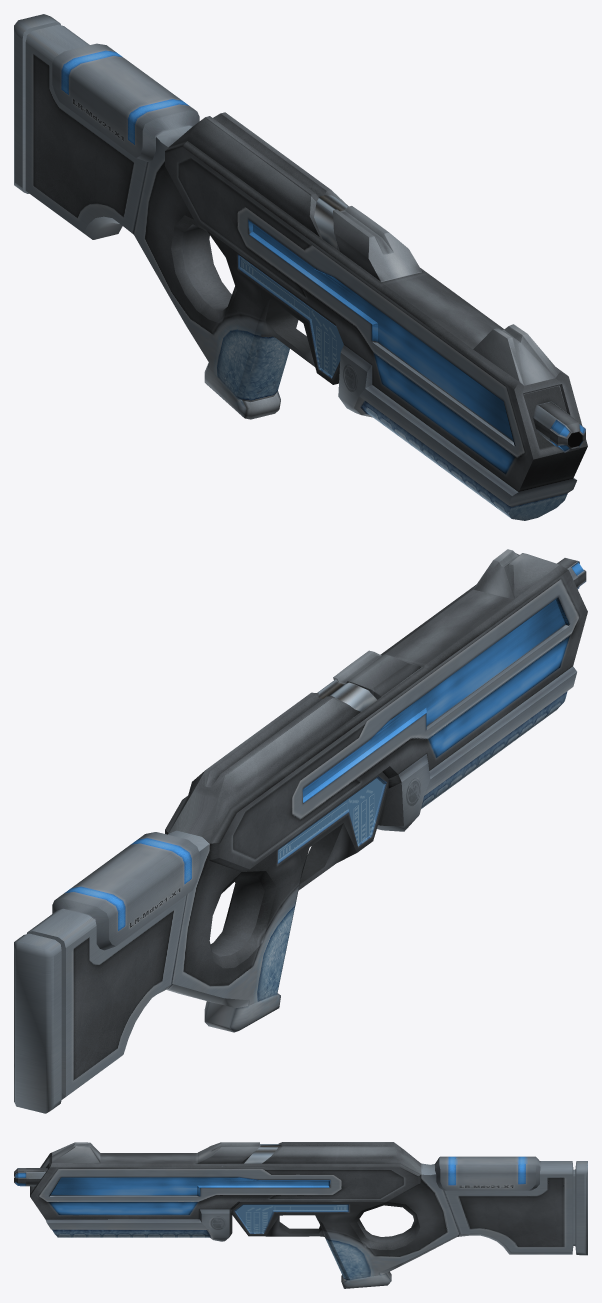
File: _LEGACY_Laser Rifle.FBX
3 renders of one model, top to bottom at view 1: azimuth 30°, elevation 25°; view 2: azimuth 150°, elevation 25°; view 3: azimuth 270°, elevation 25°, orthographic. The views are drawn at different scales.
Visible parts, largest first — view 1: Laser Rifle; view 2: Laser Rifle; view 3: Laser Rifle.
Boxes of the visible parts, <box> form: Laser Rifle: <box>14,14,587,520</box>; Laser Rifle: <box>14,549,587,1113</box>; Laser Rifle: <box>14,1142,587,1288</box>.
Bounding box in the file's own units: 199 × 772 × 2855.
Materials: 1 (1 with a texture image).
